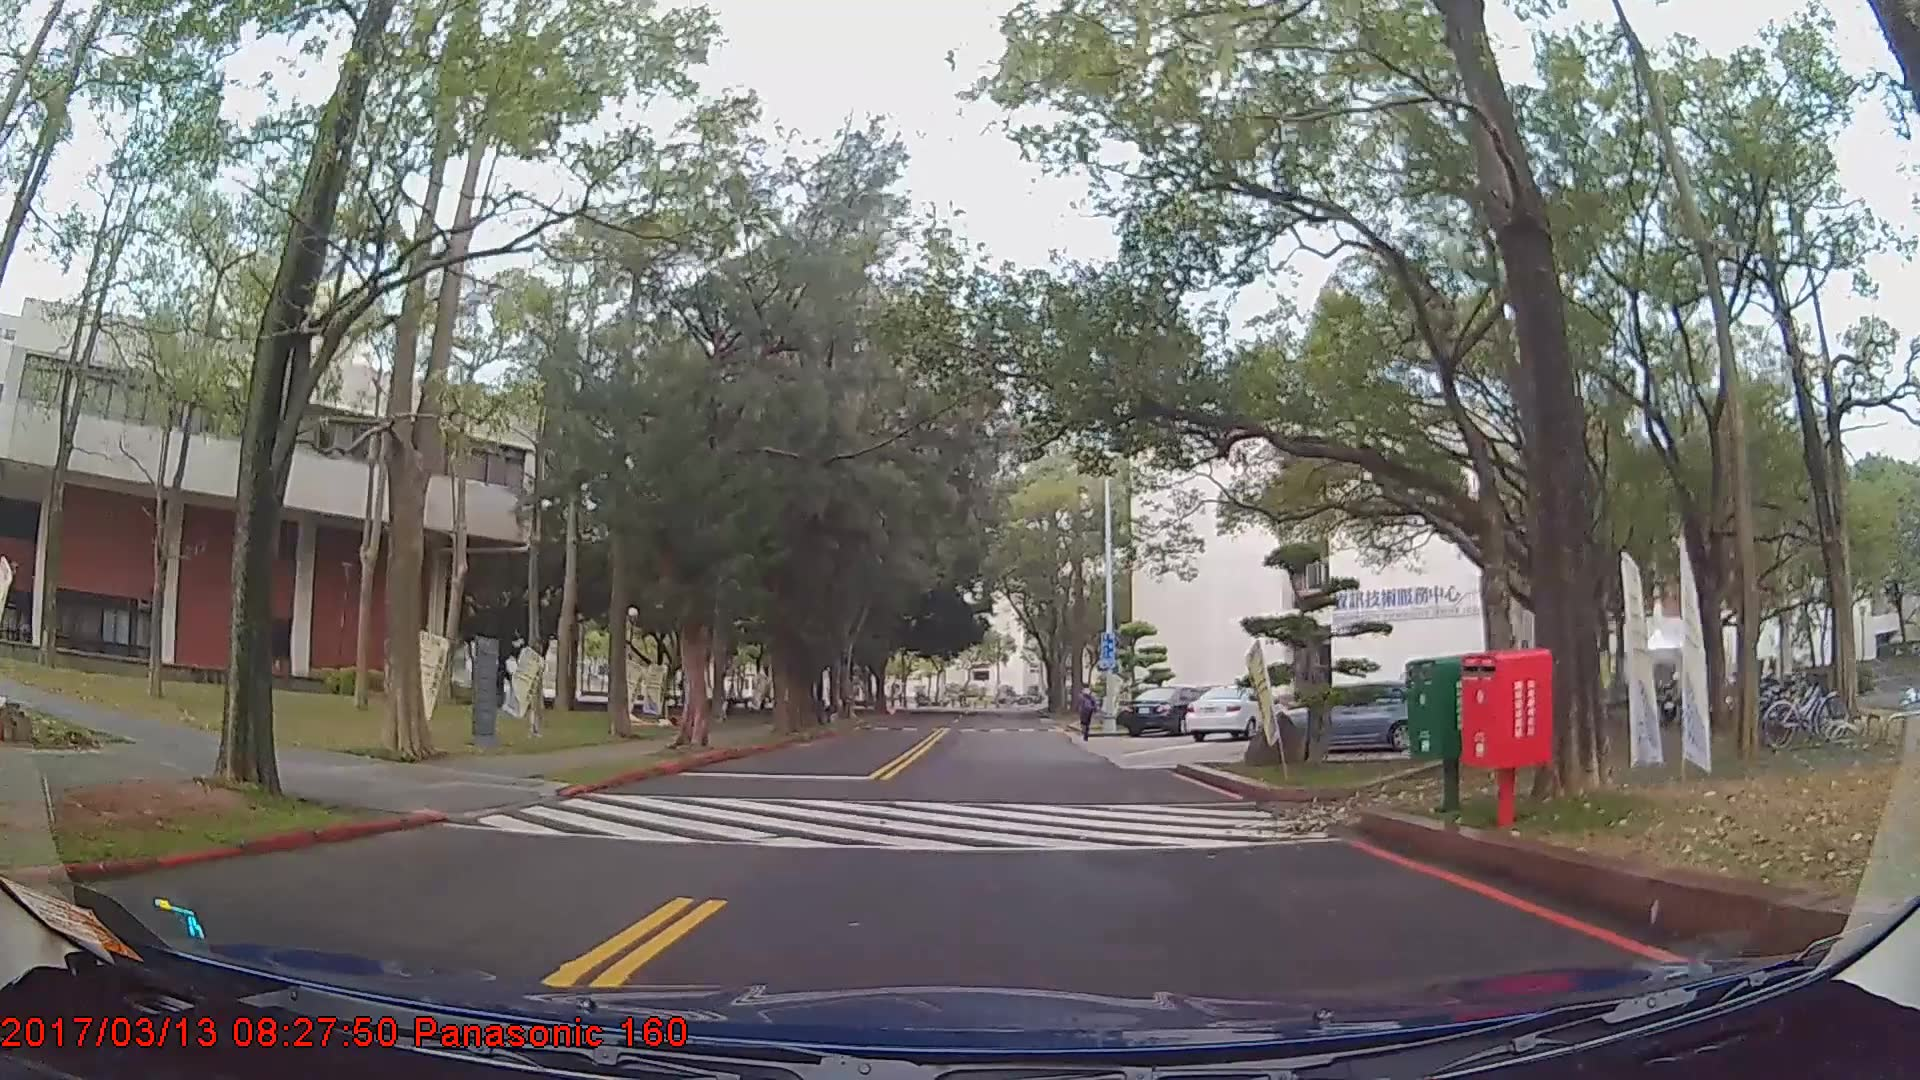pedestrian: (1072, 682, 1099, 746)
vehicle: (1181, 681, 1274, 743), (1116, 685, 1214, 736)
